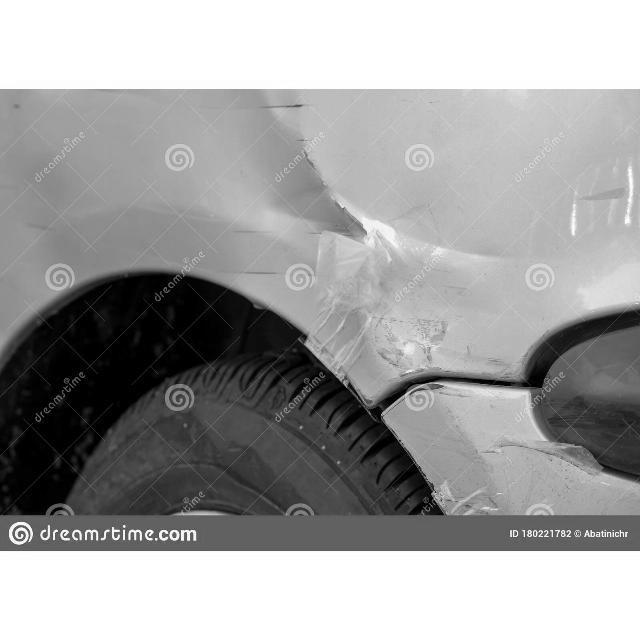fender-dent: (0, 92, 552, 416)
